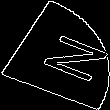N_NW: (13, 26, 97, 84)
